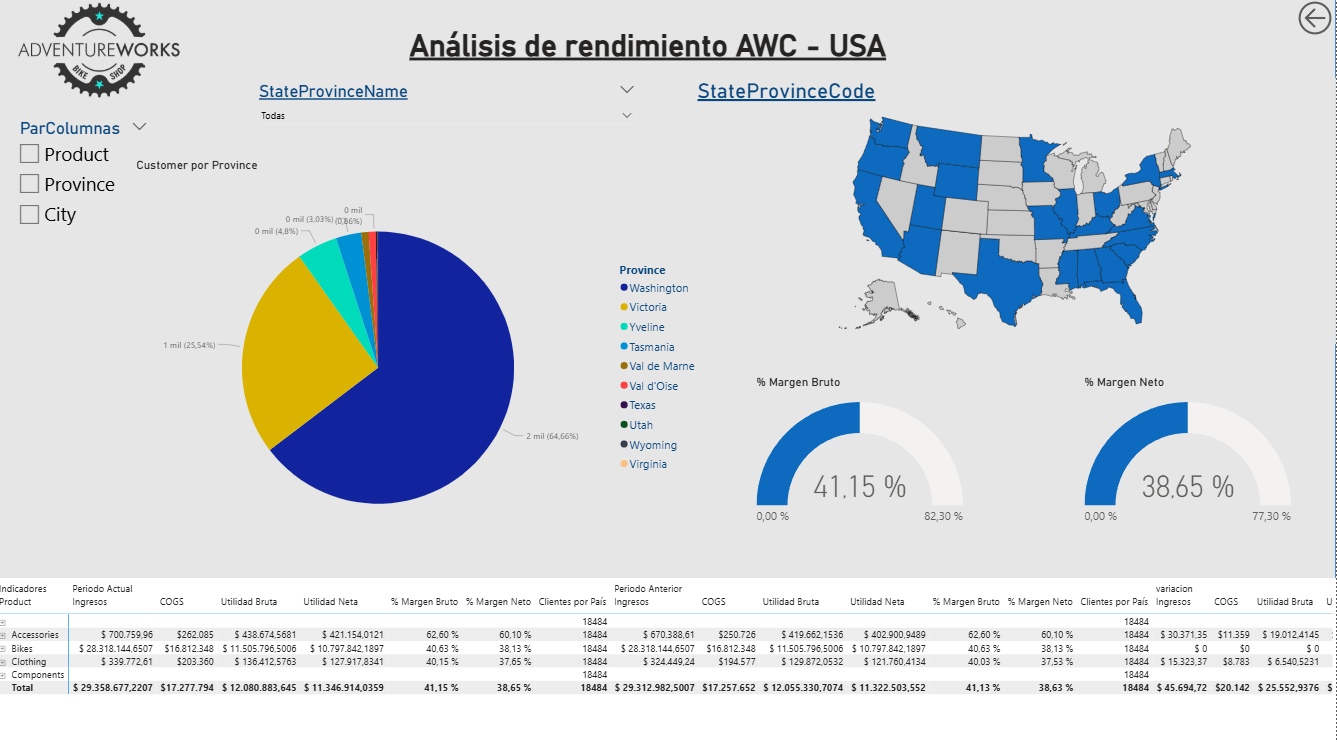

The page's visual inventory and layout, read from the dashboard file:
{"tool":"powerbi","page":{"name":"Página 3","canvas":[1920,1080],"ordinal":2},"visuals":[{"type":"shape","box":[0,0,1920,1080],"z":0},{"type":"shapeMap","fields":{"Category":["DimCustomer.StateProvinceCode"]},"box":[1003.3,115,916.7,380],"z":1000},{"type":"pivotTable","fields":{"Values":["Medidas.Ingresos","Medidas.COGS","Medidas.Utilidad Bruta","Medidas.Utilidad Neta","Medidas.% Margen Bruto","Medidas.% Margen Neto","Medidas.Clientes por País"],"Rows":["DimProduct.ProductCategoryName","DimCustomer.StateProvinceName","DimCustomer.City"],"Columns":["Valoracion_Tiempo.Indicadores"]},"box":[0,830,1920,250],"z":2000},{"type":"slicer","fields":{"Values":["ParColumnas.ParColumnas"]},"box":[26.7,168.3,206.7,198.3],"z":3000},{"type":"image","box":[0,0,306.7,151.7],"z":4000},{"type":"textbox","box":[591.7,38.3,735,76.7],"z":5000},{"type":"gauge","fields":{"Y":["Medidas.% Margen Neto"]},"box":[1555,540,305,236.7],"z":6000},{"type":"gauge","fields":{"Y":["Medidas.% Margen Bruto"]},"box":[1086.7,540,305,236.7],"z":7000},{"type":"actionButton","box":[1860,0,60,60],"z":8000},{"type":"pieChart","fields":{"Category":["DimCustomer.StateProvinceName"],"Y":["Medidas.Clientes por País"]},"box":[201.4,230,817.1,580],"z":9000},{"type":"slicer","fields":{"Values":["DimCustomer.StateProvinceName"]},"box":[368.3,115,561.7,71.7],"z":10000}]}

Visuals, with their boxes in screenshot pixels (x1, y1, x2, y2), scaled from the page's 1920x1080 canvas onto the 1337x742 screenshot:
shape: 0,0,1336,741
shapeMap - DimCustomer.StateProvinceCode: 699,79,1336,340
pivotTable - Medidas.Ingresos x Medidas.COGS: 0,570,1336,741
slicer - ParColumnas.ParColumnas: 19,116,163,252
image: 0,0,214,104
textbox: 412,26,924,79
gauge - Medidas.% Margen Neto: 1083,371,1295,534
gauge - Medidas.% Margen Bruto: 757,371,969,534
actionButton: 1295,0,1336,41
pieChart - DimCustomer.StateProvinceName x Medidas.Clientes por País: 140,158,709,556
slicer - DimCustomer.StateProvinceName: 256,79,648,128
